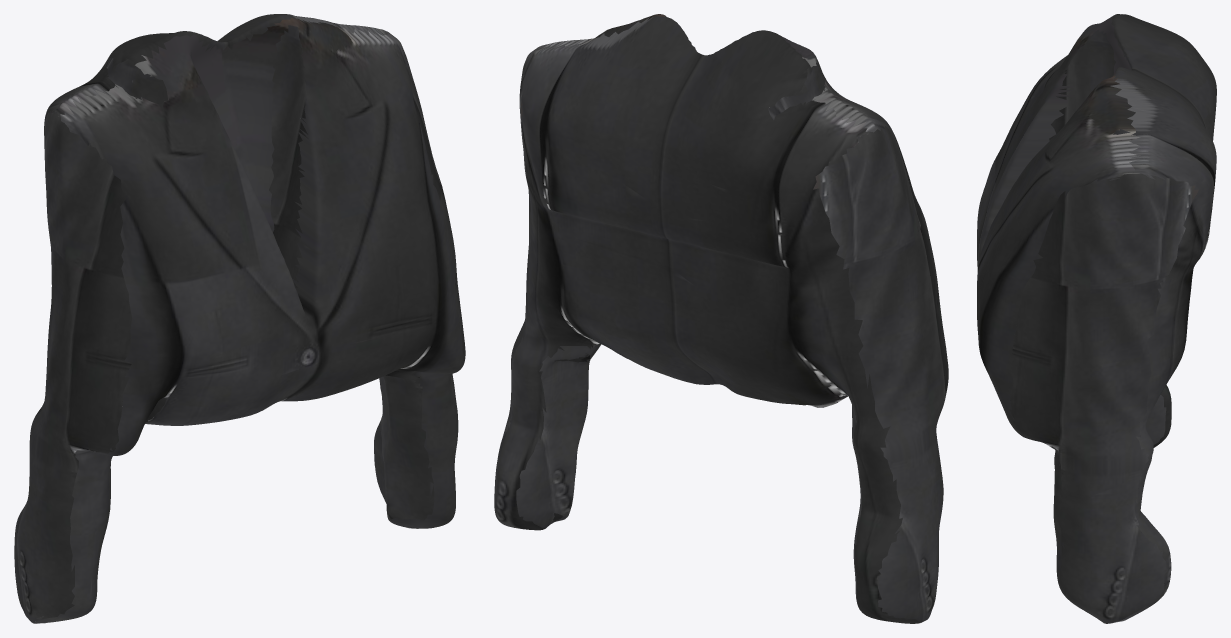
The model's file is NF007-photo-v4.glb.
3 renders of one model, left to right at view 1: azimuth 30°, elevation 25°; view 2: azimuth 150°, elevation 25°; view 3: azimuth 270°, elevation 25°, orthographic. The views are drawn at different scales.
Parts seen in each view (by area): view 1: NF007_worn_photo_fitted; view 2: NF007_worn_photo_fitted; view 3: NF007_worn_photo_fitted.
Boxes of the visible parts, x1=… form: NF007_worn_photo_fitted: x1=14, y1=14, x2=465, y2=623; NF007_worn_photo_fitted: x1=494, y1=14, x2=948, y2=623; NF007_worn_photo_fitted: x1=977, y1=14, x2=1216, y2=623.
Size of the model in its own units: 0.5117 by 0.6405 by 0.2803.
3 materials, 3 textured.
